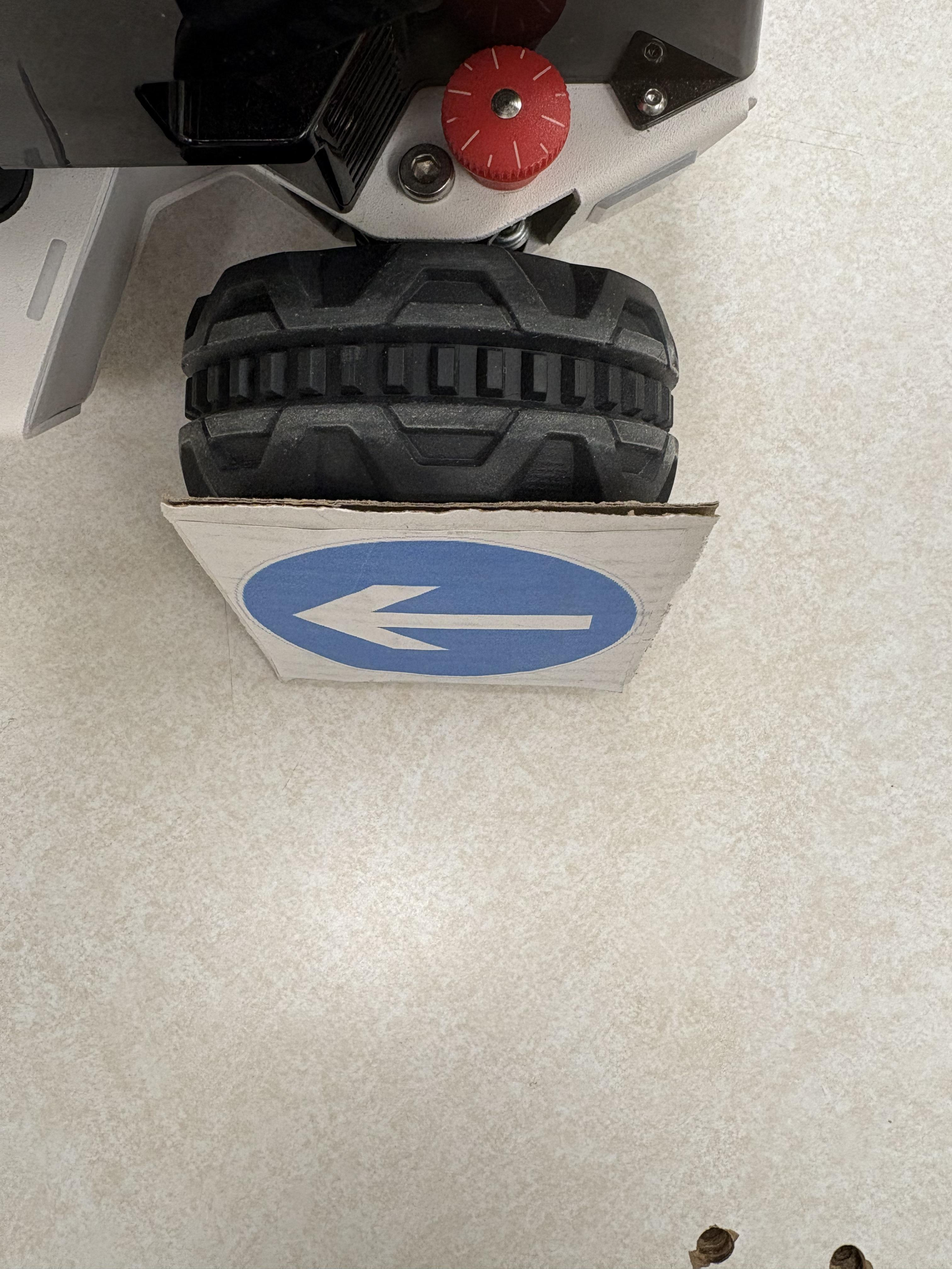Proceed Left: (124, 678, 540, 927)
